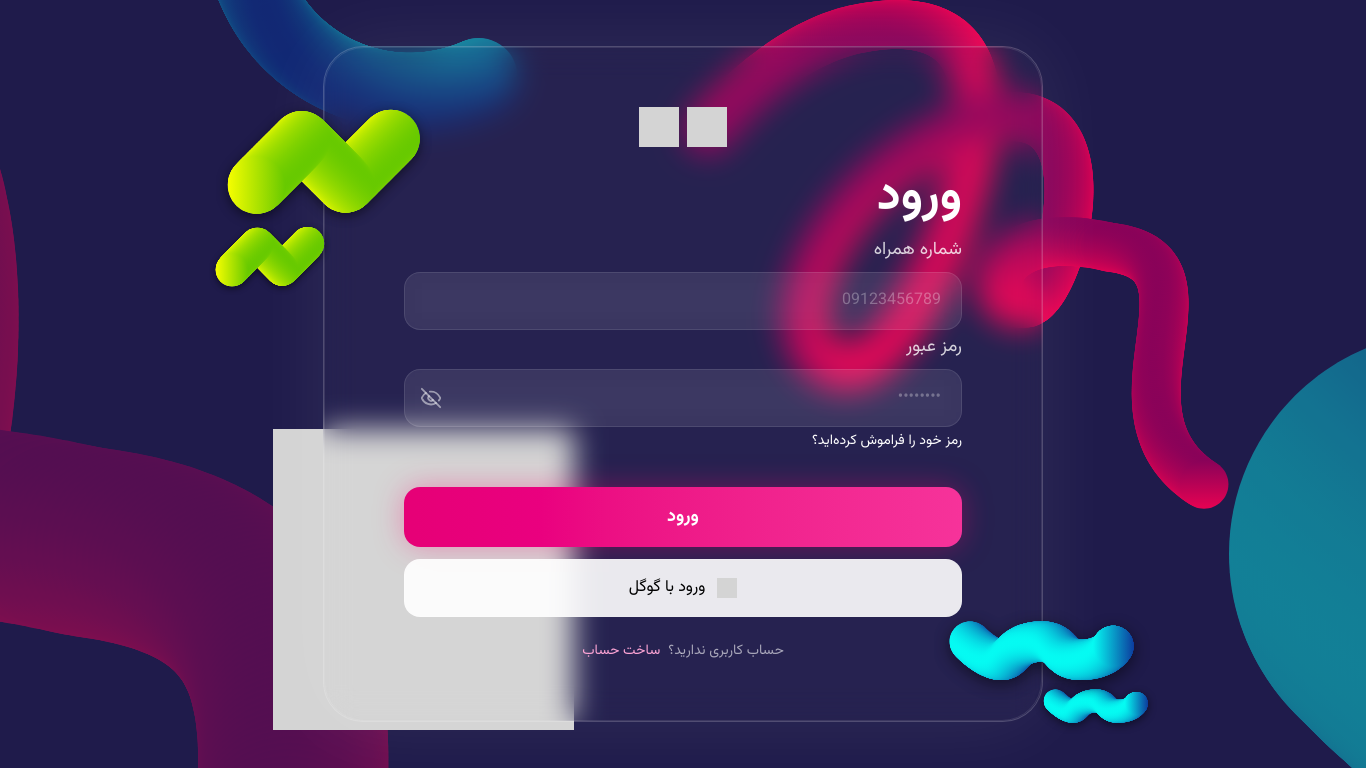
it: Login Page › shows invalid credentials error
Type "09120000000" into the field with placeholder "09123456789". click: (683, 301)
box: top-left (404, 272), bottom-right (962, 330)
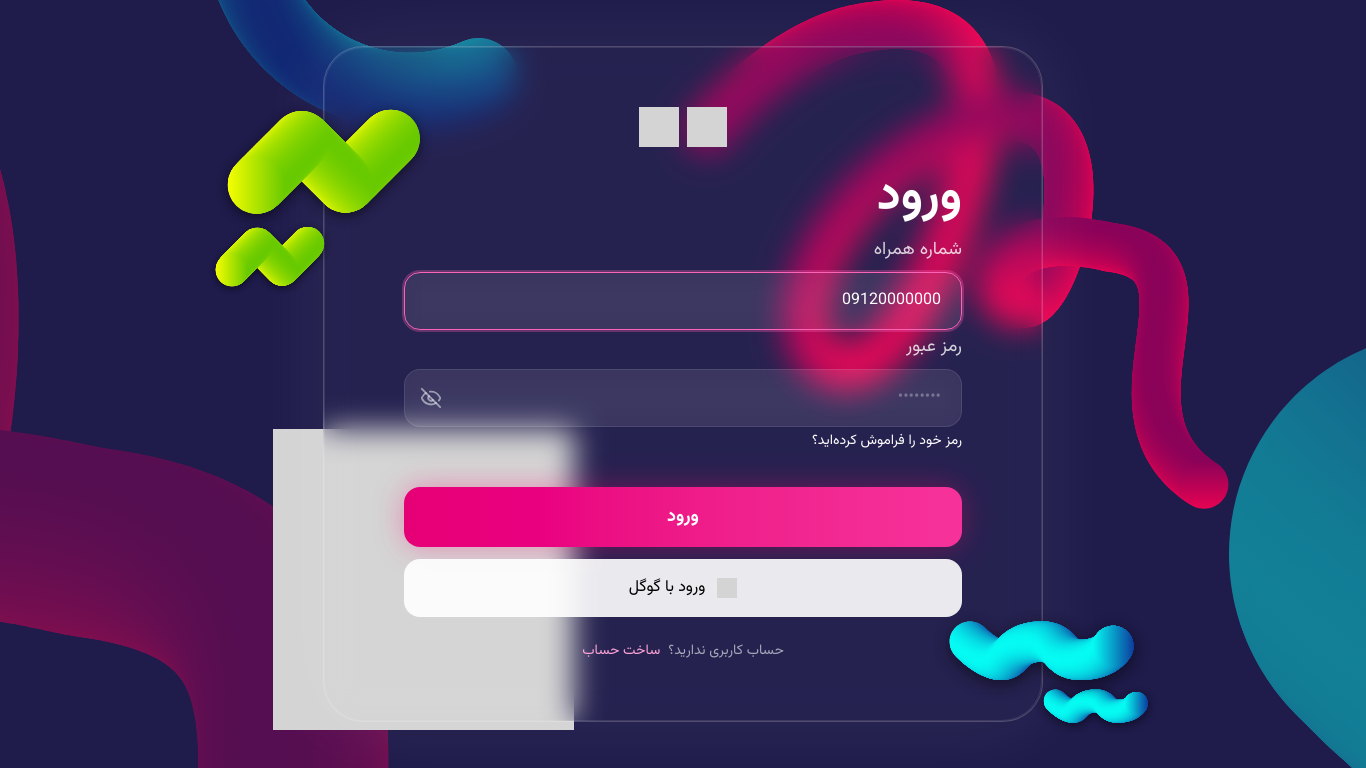
Type "Test@123" into the password field with placeholder "••••••••". click: (683, 398)
box: top-left (404, 369), bottom-right (962, 427)
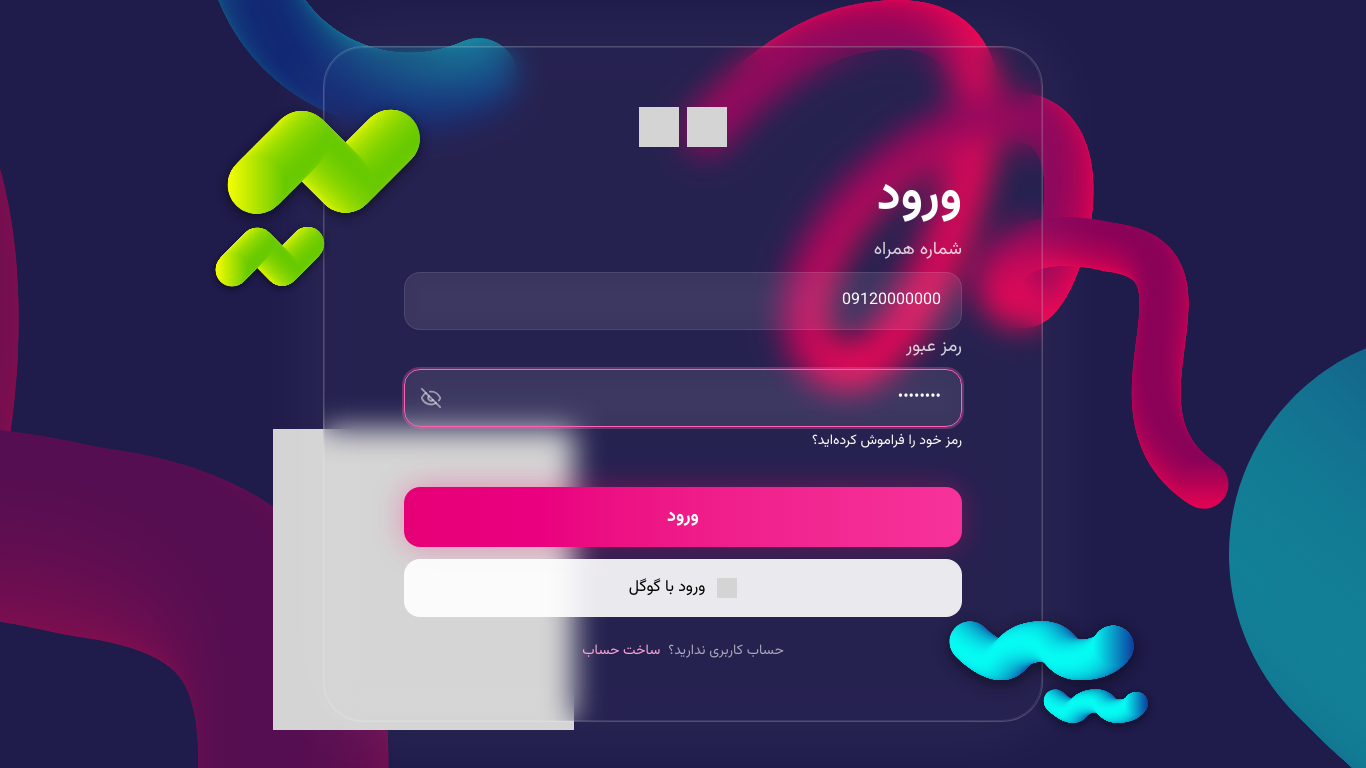
Click the button "ورود". click: (683, 517)
box: top-left (404, 487), bottom-right (962, 547)
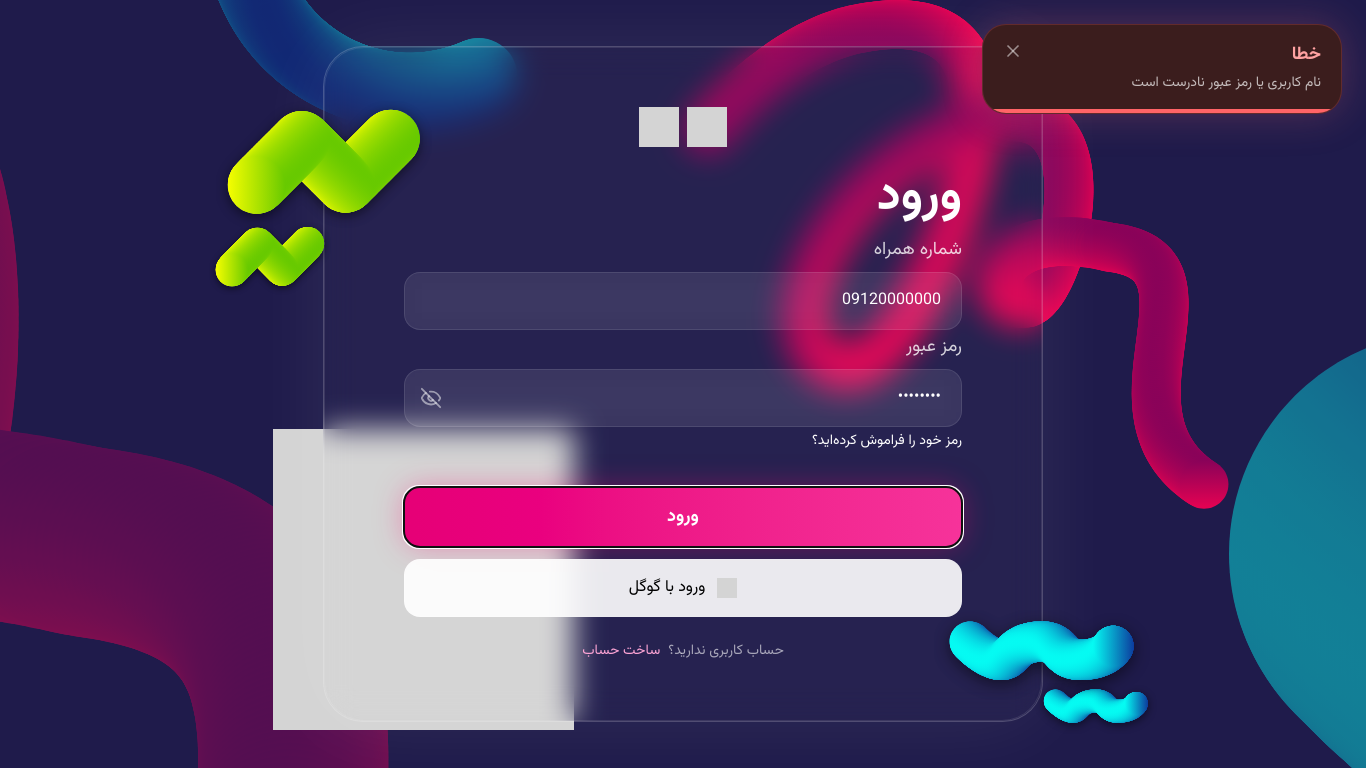
Expected: the text "نام کاربری یا رمز عبور نادرست است" is shown, top-left (1132, 73), bottom-right (1321, 93)
